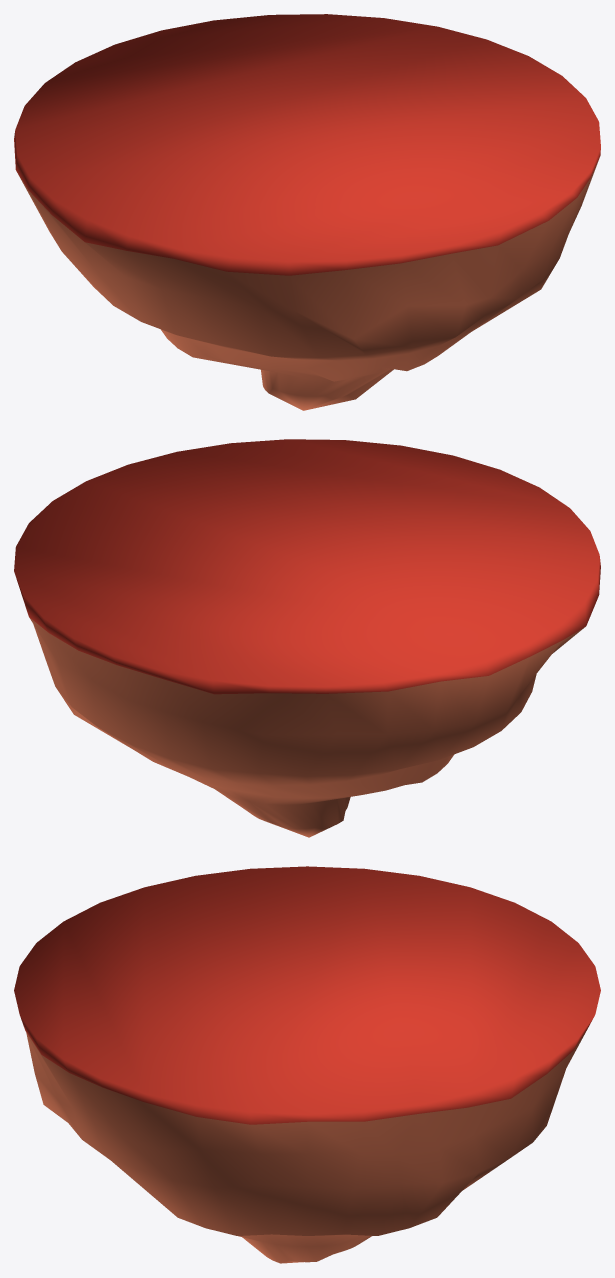
Rendered from isla.glb.
3 renders of one model, top to bottom at view 1: azimuth 30°, elevation 25°; view 2: azimuth 150°, elevation 25°; view 3: azimuth 270°, elevation 25°, orthographic.
Parts seen in each view (by area): view 1: piso; view 2: piso; view 3: piso.
Boxes of the visible parts, <box> form: piso: <box>14,14,600,410</box>; piso: <box>14,439,600,837</box>; piso: <box>14,866,600,1263</box>.
Size of the model in its own units: 37.94 by 19.39 by 37.79.
